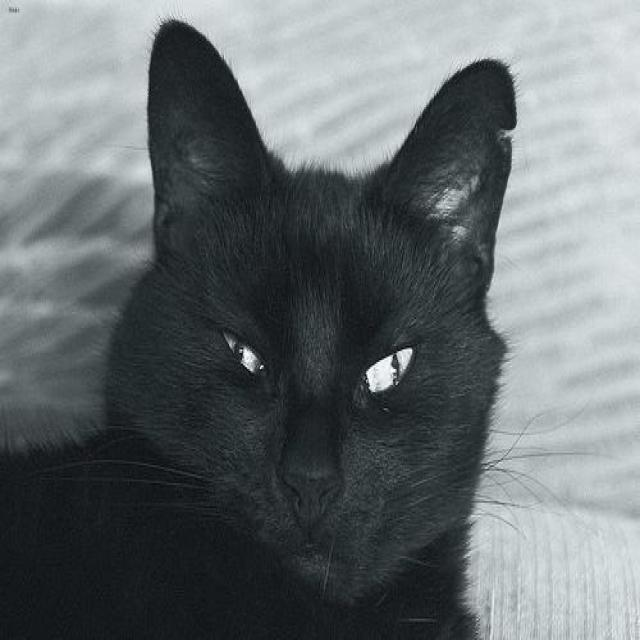cat: (0, 18, 517, 640)
